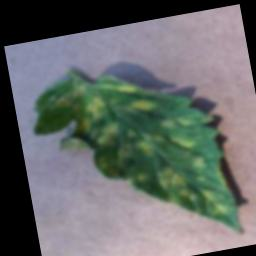Leaf_Mold: (70, 95, 109, 135), (135, 126, 168, 157), (151, 162, 185, 192), (93, 119, 123, 149), (179, 184, 215, 207), (124, 96, 153, 116), (169, 133, 196, 153), (208, 200, 230, 219), (115, 81, 138, 96), (190, 154, 208, 171)
